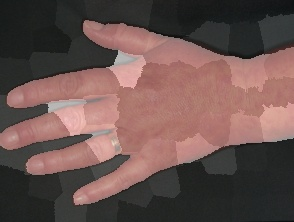SJS-TEN: (102, 30, 294, 181)
